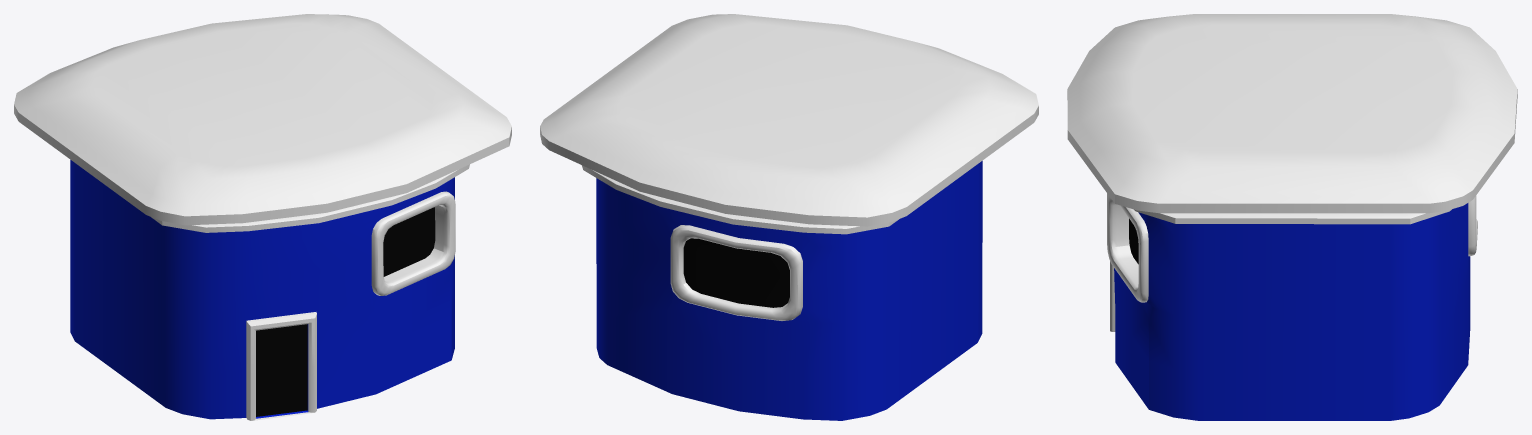
File: Tek_Katlı_Bina.fbx
3 views of the same model, side by side, from view 1: azimuth 30°, elevation 25°; view 2: azimuth 150°, elevation 25°; view 3: azimuth 270°, elevation 25° (orthographic). The views are drawn at different scales.
Parts seen in each view (by area): view 1: Cube.001; view 2: Cube.001; view 3: Cube.001.
Boxes of the visible parts, x1,y1,x2,y2 form: Cube.001: (14,14,511,420); Cube.001: (540,14,1038,420); Cube.001: (1067,14,1517,420).
Bounding box in the file's own units: 93.31 × 60.81 × 95.46.
